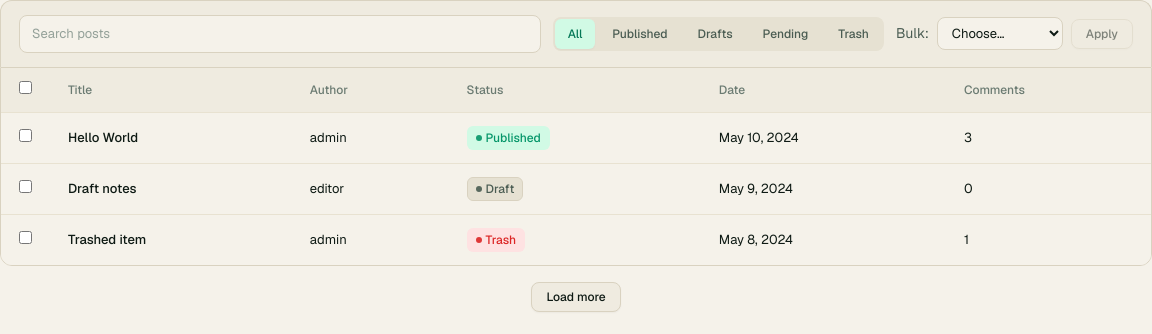
Test: PostListClient › appends posts returned by the fetcher when "Load more" is clicked
Click the button "Load more" at (576, 296), box [531, 282, 620, 312]
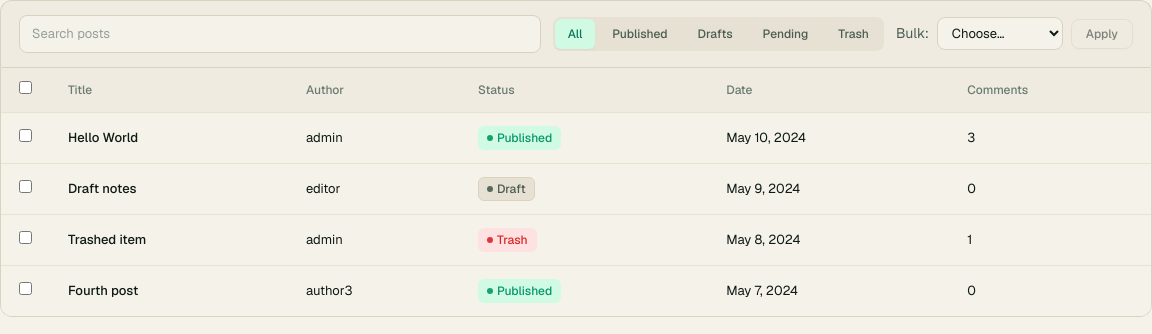
Check: the link "Fourth post" is shown, box [68, 282, 138, 299]
